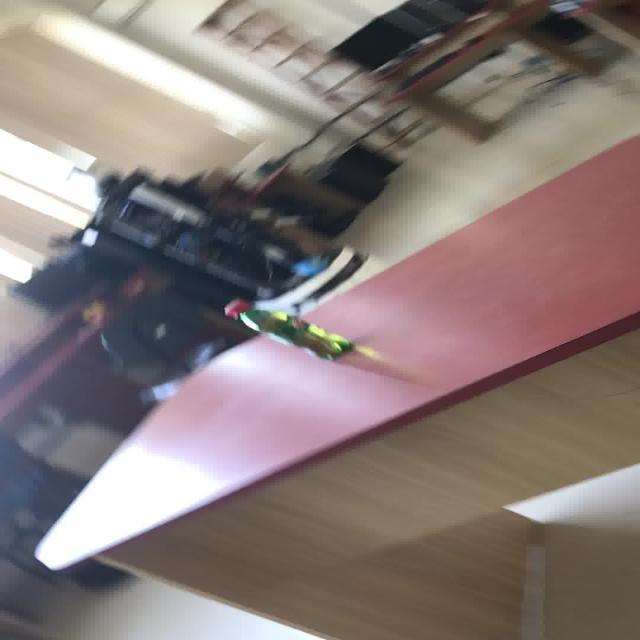guarana: (222, 297, 381, 363)
